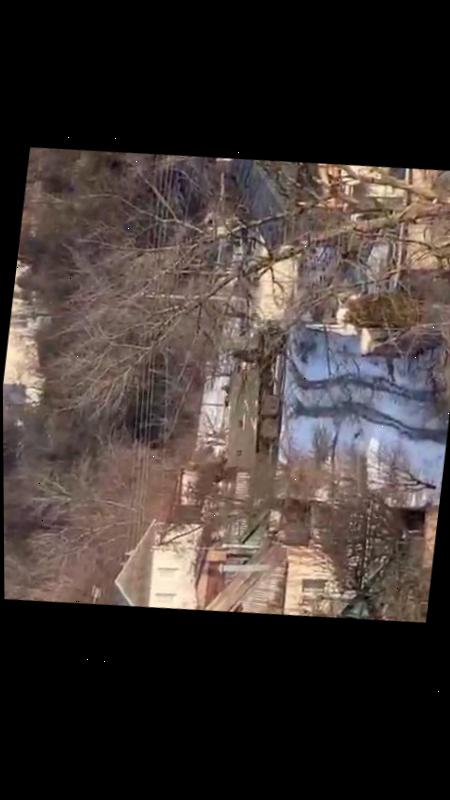truck: (210, 318, 292, 478)
